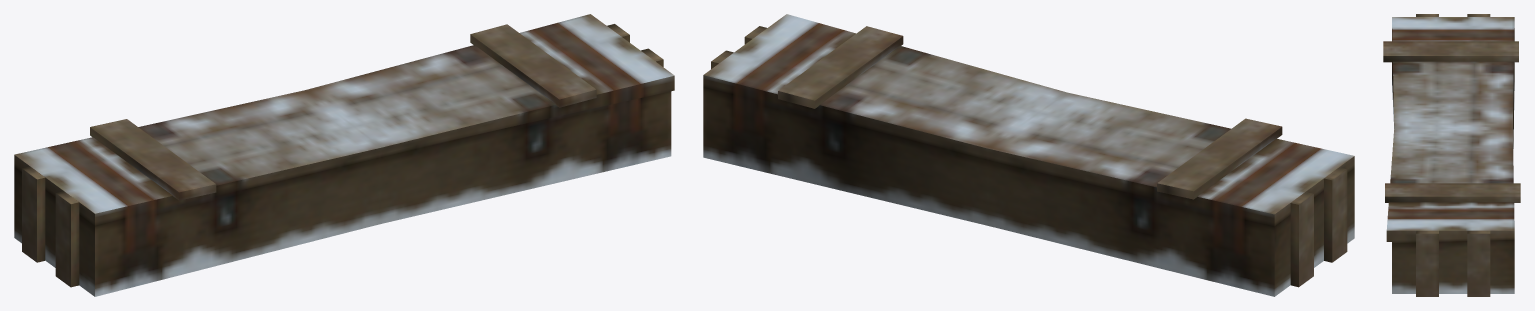
The model's file is yw_wanglingzhita_muxiang.FBX.
3 renders of one model, left to right at view 1: azimuth 30°, elevation 25°; view 2: azimuth 150°, elevation 25°; view 3: azimuth 270°, elevation 25°, orthographic. The views are drawn at different scales.
Visible parts, largest first — view 1: yw_wanglingzhita_muxiang; view 2: yw_wanglingzhita_muxiang; view 3: yw_wanglingzhita_muxiang.
Boxes of the visible parts, bbox=[...] form: yw_wanglingzhita_muxiang: bbox=[14, 14, 674, 296]; yw_wanglingzhita_muxiang: bbox=[703, 14, 1354, 296]; yw_wanglingzhita_muxiang: bbox=[1383, 14, 1520, 296].
Size of the model in its own units: 788 by 114 by 208.
